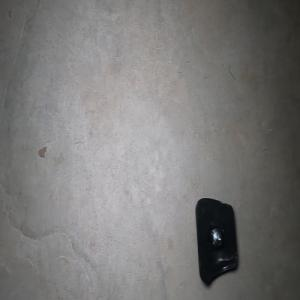LuggagePart: (194, 196, 238, 285)
